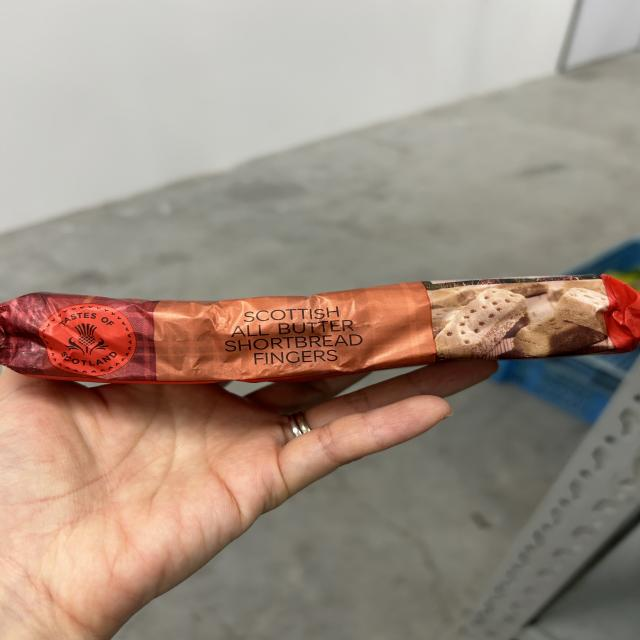object_name: (6, 294, 636, 375)
